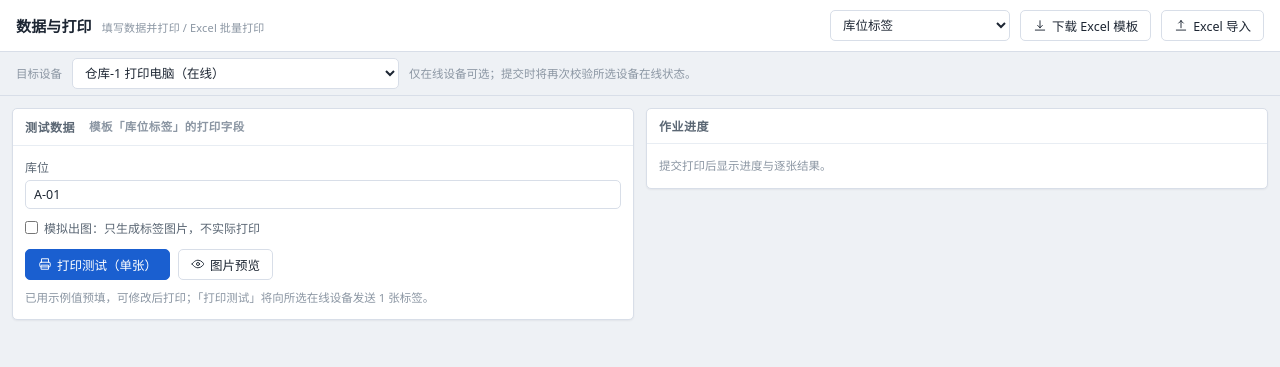
Test: DataPrint server 构建：提交前现拉校验（K3） › 所选设备提交时已离线：禁止提交、作业不排队（不复用进入页面时的缓存列表）
The image size is (1280, 367).
Expected: the field showing "A-01" is shown, [25,180,621,208]
Expected: the dropdown named "目标设备" is shown, [72,58,399,89]
Click the button "打印测试（单张）". click: point(98, 264)
box: [25,248,170,280]
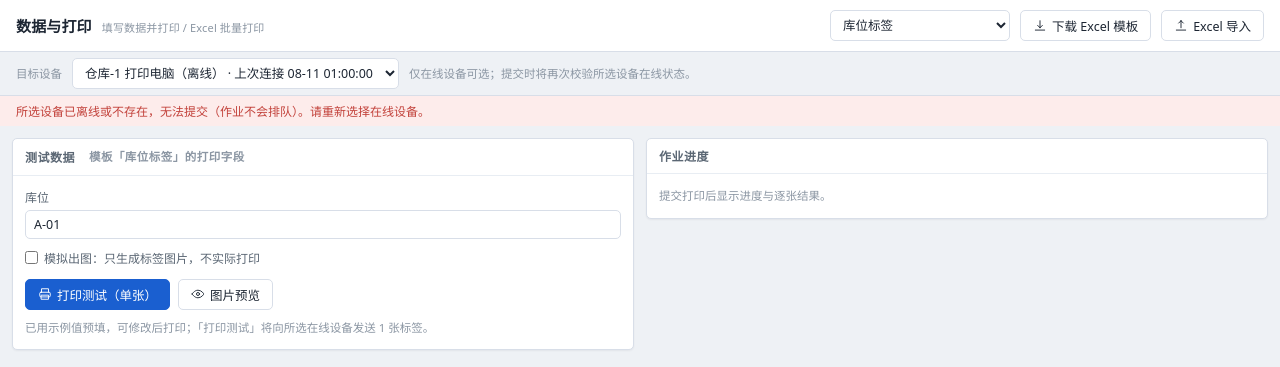
Expected: the text "所选设备已离线或不存在，无法提交（作业不会排队）。请重新选择在线设备。" is shown, [0,96,1279,126]
